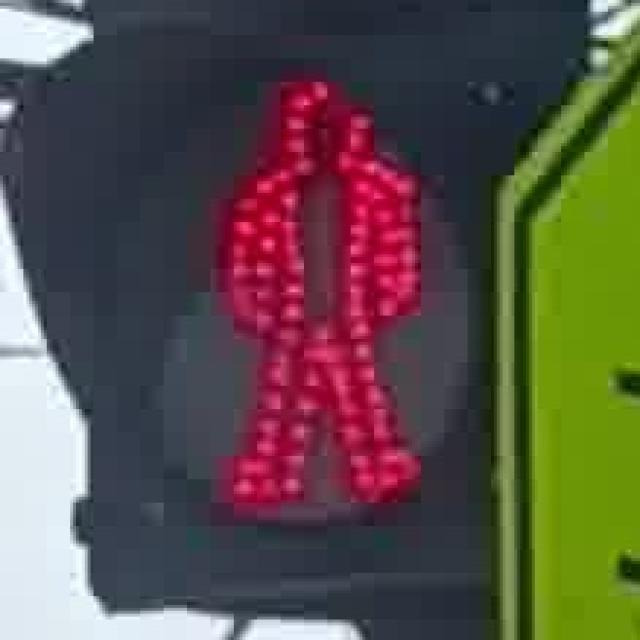red-crossing: (187, 50, 444, 532)
